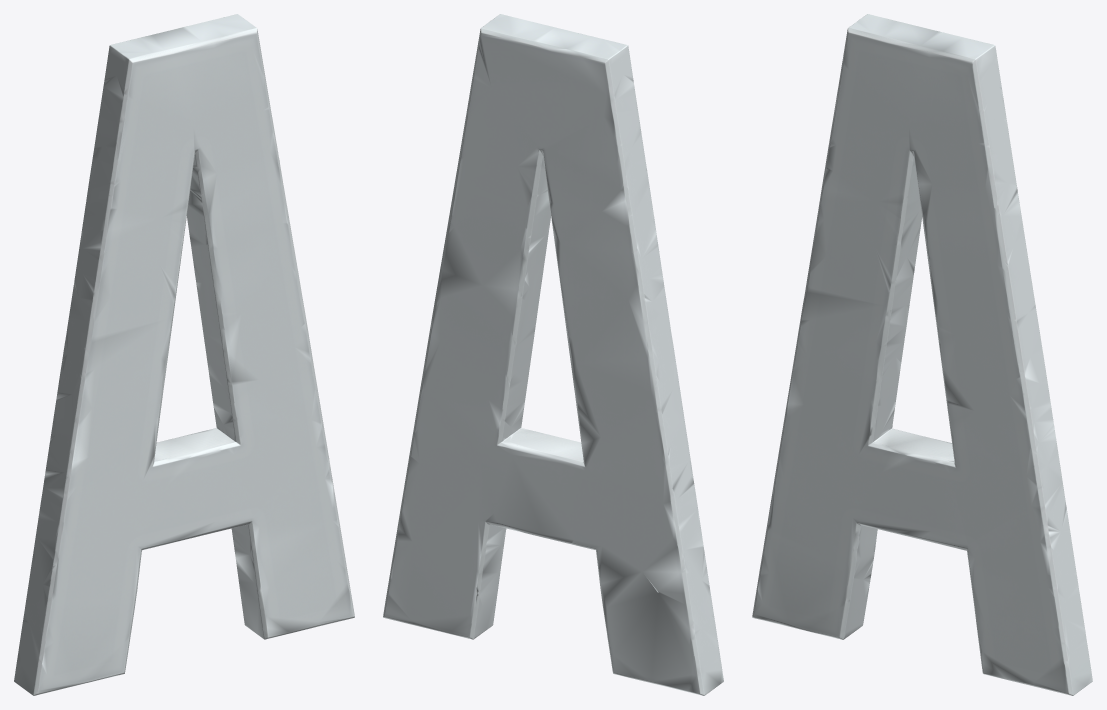
3 views of the same model, side by side, from view 1: azimuth 30°, elevation 25°; view 2: azimuth 150°, elevation 25°; view 3: azimuth 330°, elevation 25° (orthographic).
Parts seen in each view (by area): view 1: Mesh_0.001; view 2: Mesh_0.001; view 3: Mesh_0.001.
Boxes of the visible parts, x1,y1,x2,y2 form: Mesh_0.001: (14,14,354,695); Mesh_0.001: (383,14,723,695); Mesh_0.001: (752,14,1092,695).
Size of the model in its own units: 0.1097 by 0.2 by 0.0135.
Materials: 1 (1 with a texture image).
